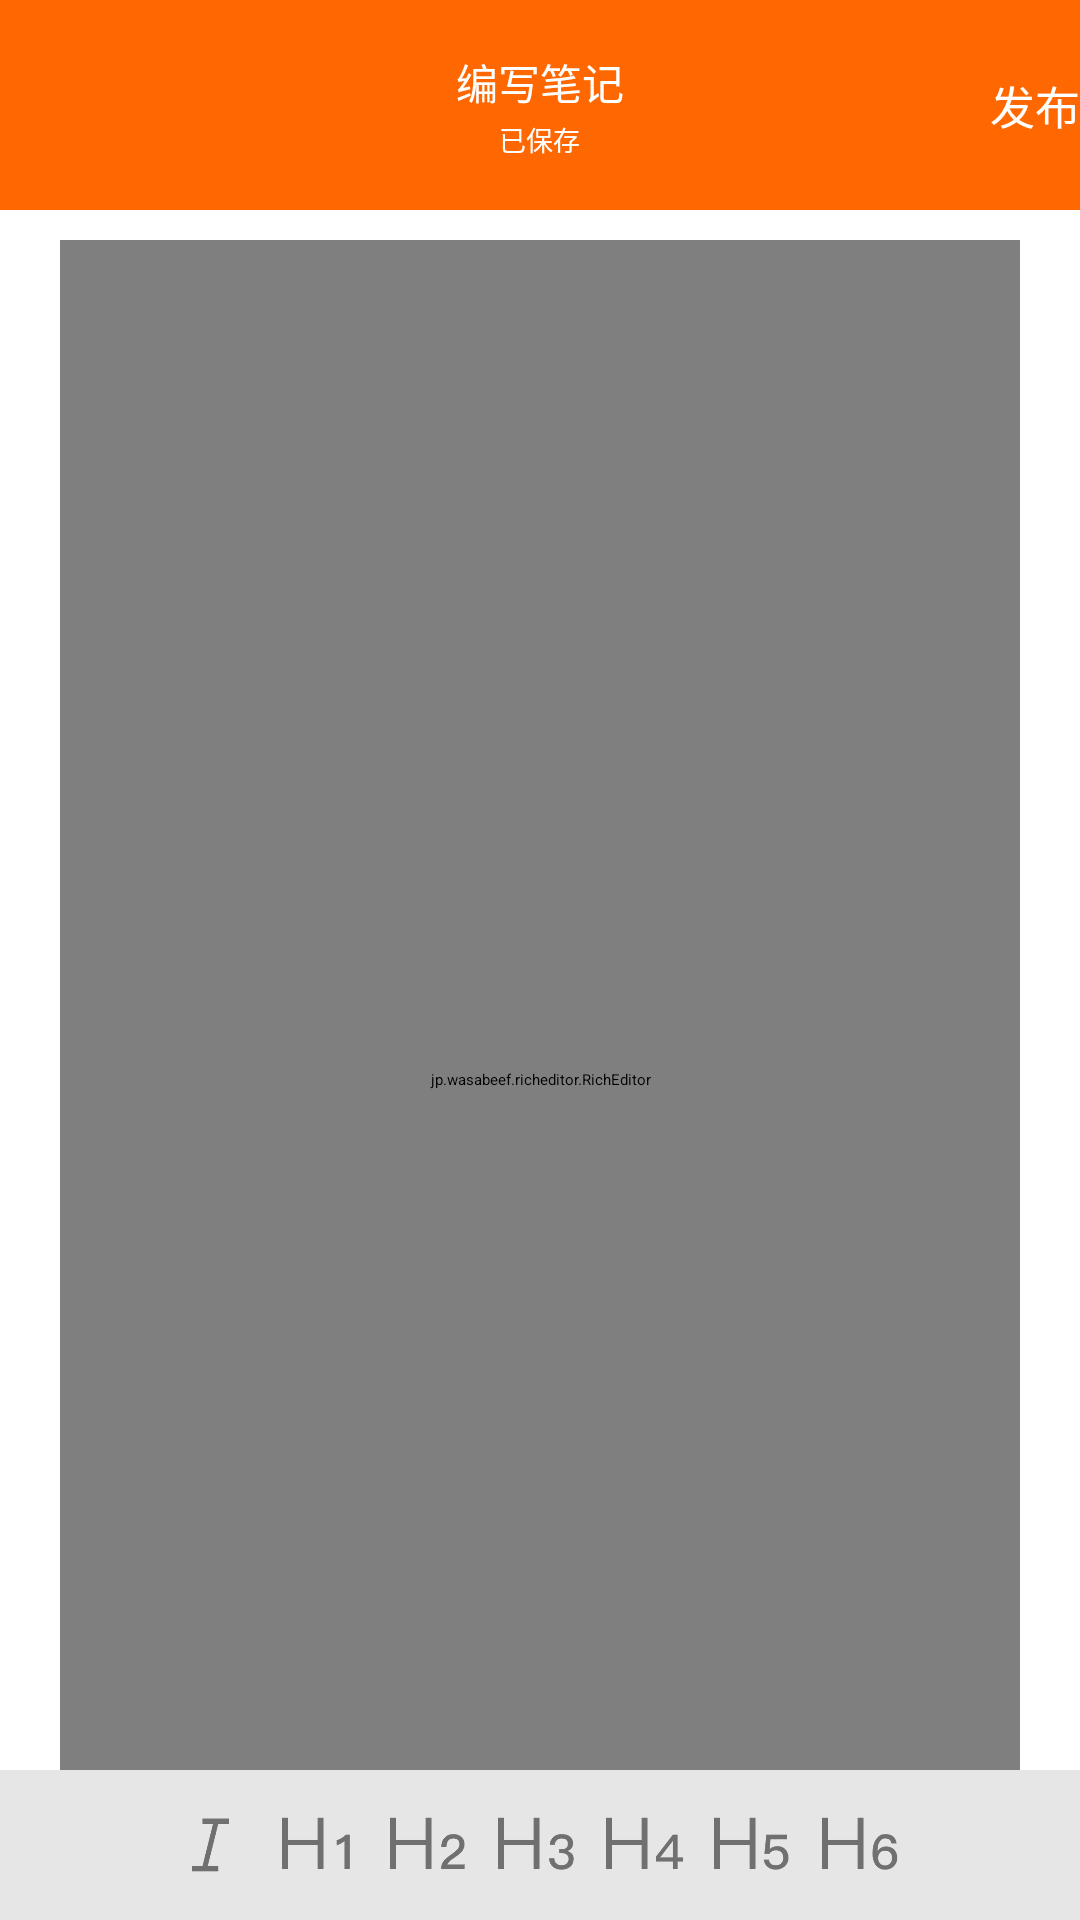

Icon click points for this 1080*1920 phone screenshot, format point (x, y):
head: point (316, 1843), point (427, 1843), point (536, 1843), point (644, 1843), point (751, 1843), point (859, 1843)
lean: point (210, 1845)
